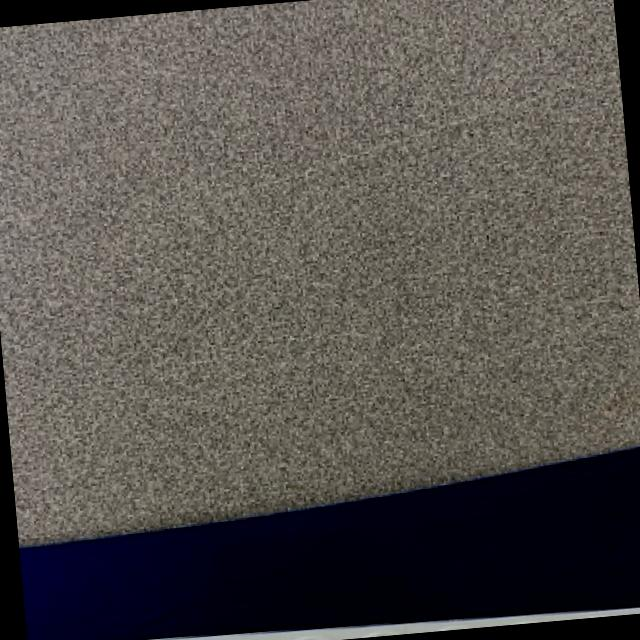healthy: (0, 0, 640, 543), (114, 618, 484, 640), (517, 610, 640, 621)
